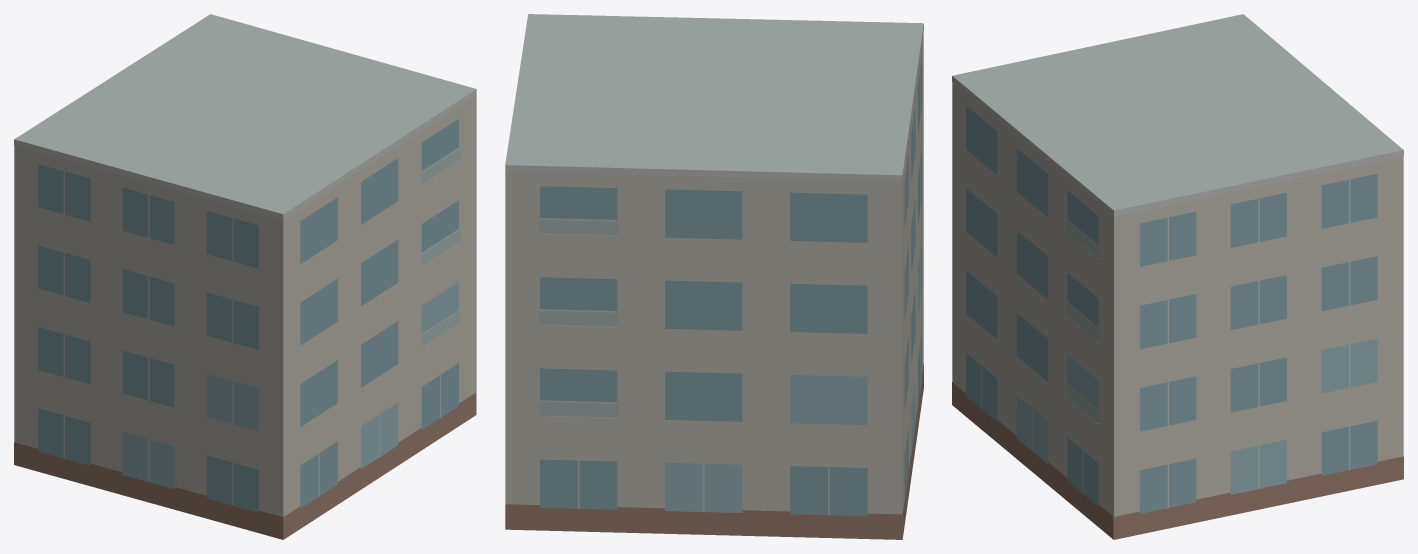
The model's file is survey-upis-32620429.glb.
3 views of the same model, side by side, from view 1: azimuth 30°, elevation 25°; view 2: azimuth 150°, elevation 25°; view 3: azimuth 270°, elevation 25° (orthographic). The views are drawn at different scales.
Visible parts, largest first — view 1: survey-upis-32620429.tmp; view 2: survey-upis-32620429.tmp; view 3: survey-upis-32620429.tmp.
Part boxes in pixels (x1,y1,x2,y2): survey-upis-32620429.tmp: (14,14,476,539); survey-upis-32620429.tmp: (505,14,923,539); survey-upis-32620429.tmp: (952,14,1403,539).
Size of the model in its own units: 16.49 by 12.87 by 16.01.
